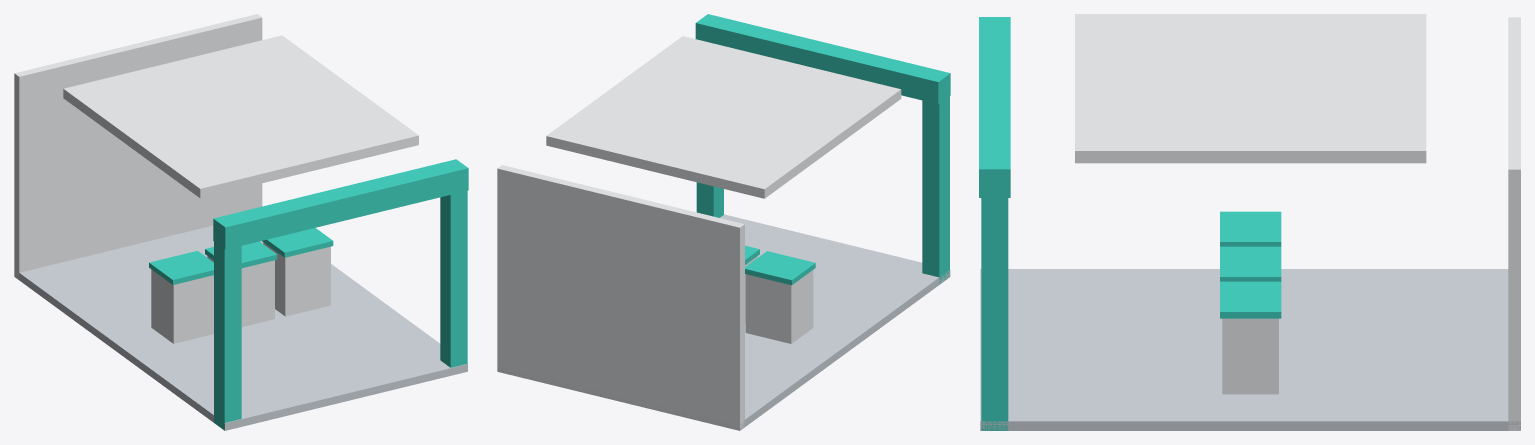
3 views of the same model, side by side, from view 1: azimuth 30°, elevation 25°; view 2: azimuth 150°, elevation 25°; view 3: azimuth 270°, elevation 25° (orthographic). The views are drawn at different scales.
Visible parts, largest first — view 1: Exhibition Booth Concept; view 2: Exhibition Booth Concept; view 3: Exhibition Booth Concept.
Boxes of the visible parts, box(x1,y1,x2,y2) form: Exhibition Booth Concept: box(14, 14, 468, 430); Exhibition Booth Concept: box(497, 14, 950, 430); Exhibition Booth Concept: box(979, 14, 1520, 430).
Bounding box in the file's own units: 4 × 3.34 × 6.02.
